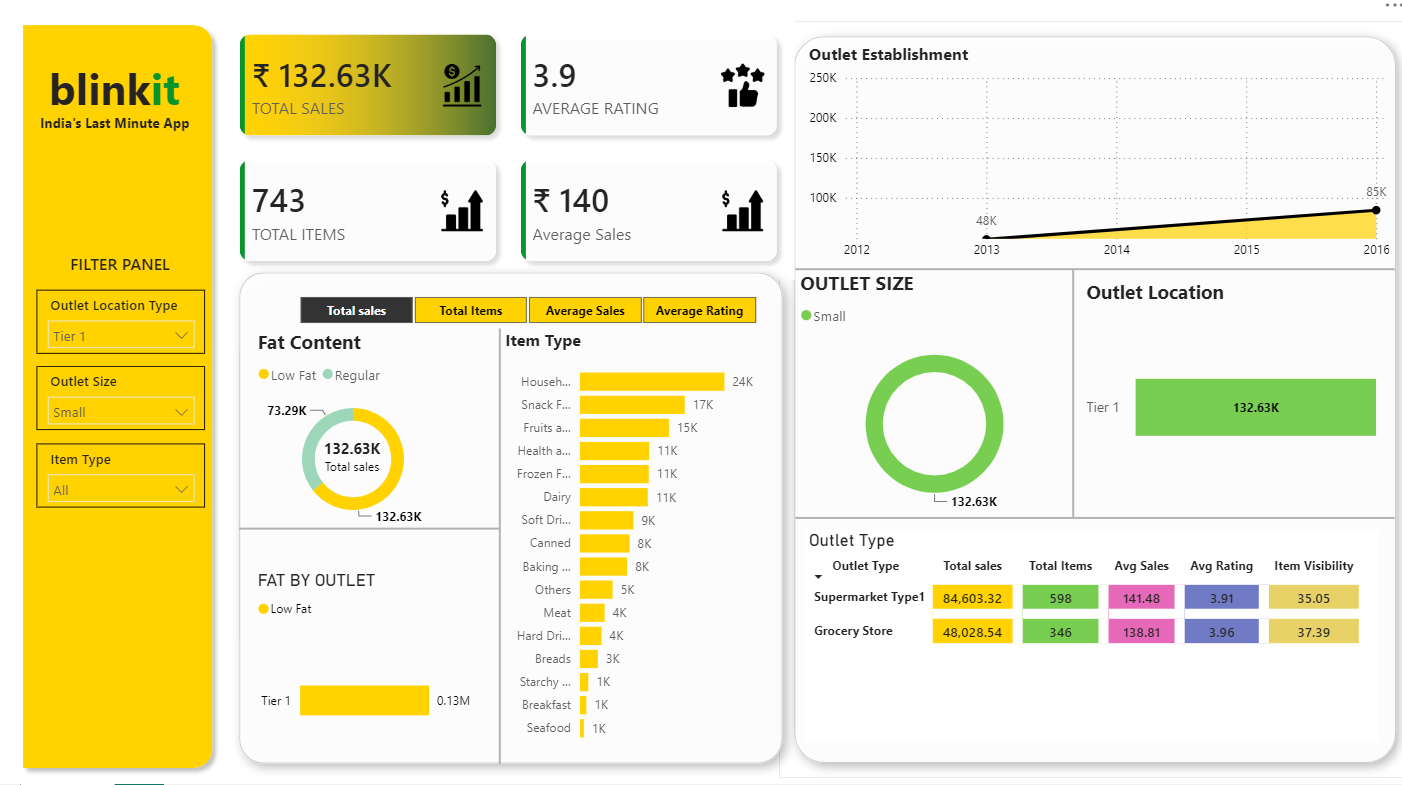

This screenshot's page, from the dashboard's own definition file:
{"tool":"powerbi","page":{"name":"Page 1","canvas":[1400,800],"ordinal":0},"visuals":[{"type":"shape","box":[775.6,30,624.4,747.8],"z":0},{"type":"cardVisual","fields":{"Data":["Sum(BlinkIT Grocery Data.Total Sales)","BlinkIT Grocery Data.Total Items","Avg(BlinkIT Grocery Data.Rating)","BlinkIT Grocery Data.AVERAGE SALES"]},"box":[226.4,25.4,564.7,259.4],"z":1000},{"type":"shape","box":[226.7,263.3,566.7,515],"z":2000},{"type":"shape","box":[20,25,205,751.7],"z":3000},{"type":"textbox","box":[49.5,61.5,150.1,81],"z":4000},{"type":"textbox","box":[40.5,115.6,166.6,36],"z":5000},{"type":"donutChart","title":"Fat Content","fields":{"Y":["BlinkIT Grocery Data.Total sales"],"Category":["BlinkIT Grocery Data.Item Fat Content"]},"box":[255.6,333.2,198.4,203.5],"z":6000},{"type":"slicer","fields":{"Values":["Metrics.Metrics"]},"box":[276,295.1,499.8,34.3],"z":7000},{"type":"cardVisual","fields":{"Data":["BlinkIT Grocery Data.Total sales"]},"box":[311.6,435,85.2,48.3],"z":8000},{"type":"clusteredBarChart","title":"FAT BY OUTLET","fields":{"Y":["BlinkIT Grocery Data.Total sales"],"Category":["BlinkIT Grocery Data.Outlet Location Type"],"Series":["BlinkIT Grocery Data.Item Fat Content"]},"box":[255,571.7,220,205],"z":9000},{"type":"shape","box":[241.6,526.5,258.2,10.2],"z":10000},{"type":"shape","box":[465,333.3,68.3,430],"z":11000},{"type":"barChart","title":"Item Type","fields":{"Y":["BlinkIT Grocery Data.Total sales"],"Category":["BlinkIT Grocery Data.Item Type"]},"box":[499.8,333.2,264.5,418.4],"z":12000},{"type":"lineChart","title":"Outlet Establishment","fields":{"Category":["BlinkIT Grocery Data.Outlet Establishment Year"],"Y":["BlinkIT Grocery Data.Total sales"]},"box":[800,51.1,583.3,223.3],"z":13000},{"type":"shape","box":[791.1,264.4,592.2,21.1],"z":14000},{"type":"donutChart","title":"OUTLET SIZE","fields":{"Y":["BlinkIT Grocery Data.Total sales"],"Category":["BlinkIT Grocery Data.Outlet Size"]},"box":[791.1,275.6,275.6,250],"z":15000},{"type":"funnel","title":"Outlet Location ","fields":{"Category":["BlinkIT Grocery Data.Outlet Location Type"],"Y":["Sum(BlinkIT Grocery Data.Sales)"]},"box":[1074.4,284.4,301.1,228.9],"z":16000},{"type":"pivotTable","title":"Outlet Type","fields":{"Rows":["BlinkIT Grocery Data.Outlet Type"],"Values":["BlinkIT Grocery Data.Total sales","BlinkIT Grocery Data.Total Items","BlinkIT Grocery Data.Average Sales","BlinkIT Grocery Data.Average Rating","Sum(BlinkIT Grocery Data.Item Visibility)"]},"box":[800,531.7,568.3,210],"z":17000},{"type":"shape","box":[791.1,510,592.2,21.1],"z":18000},{"type":"shape","box":[1031.1,274.4,70,246.7],"z":19000},{"type":"slicer","fields":{"Values":["BlinkIT Grocery Data.Outlet Location Type"]},"box":[41.7,295,166.7,63.3],"z":20000},{"type":"slicer","fields":{"Values":["BlinkIT Grocery Data.Outlet Size"]},"box":[41.7,370,166.7,63.3],"z":21000},{"type":"slicer","fields":{"Values":["BlinkIT Grocery Data.Item Type"]},"box":[41.7,446.7,166.7,63.3],"z":22000},{"type":"textbox","box":[63.3,253.3,123.3,58.3],"z":23000}]}

Visuals, with their boxes in screenshot pixels (x1, y1, x2, y2), scaled from the page's 1400x800 canvas onto the 1402x785 screenshot:
shape: left=777, top=29, right=1401, bottom=763
cardVisual - Sum(BlinkIT Grocery Data.Total Sales) x BlinkIT Grocery Data.Total Items: left=227, top=25, right=792, bottom=279
shape: left=227, top=258, right=795, bottom=764
shape: left=20, top=25, right=225, bottom=762
textbox: left=50, top=60, right=200, bottom=140
textbox: left=41, top=113, right=207, bottom=149
"Fat Content" donutChart: left=256, top=327, right=455, bottom=527
slicer - Metrics.Metrics: left=276, top=290, right=777, bottom=323
cardVisual - BlinkIT Grocery Data.Total sales: left=312, top=427, right=397, bottom=474
"FAT BY OUTLET" clusteredBarChart: left=255, top=561, right=476, bottom=762
shape: left=242, top=517, right=501, bottom=527
shape: left=466, top=327, right=534, bottom=749
"Item Type" barChart: left=501, top=327, right=765, bottom=738
"Outlet Establishment" lineChart: left=801, top=50, right=1385, bottom=269
shape: left=792, top=259, right=1385, bottom=280
"OUTLET SIZE" donutChart: left=792, top=270, right=1068, bottom=516
"Outlet Location " funnel: left=1076, top=279, right=1377, bottom=504
"Outlet Type" pivotTable: left=801, top=522, right=1370, bottom=728
shape: left=792, top=500, right=1385, bottom=521
shape: left=1033, top=269, right=1103, bottom=511
slicer - BlinkIT Grocery Data.Outlet Location Type: left=42, top=289, right=209, bottom=352
slicer - BlinkIT Grocery Data.Outlet Size: left=42, top=363, right=209, bottom=425
slicer - BlinkIT Grocery Data.Item Type: left=42, top=438, right=209, bottom=500
textbox: left=63, top=249, right=187, bottom=306
